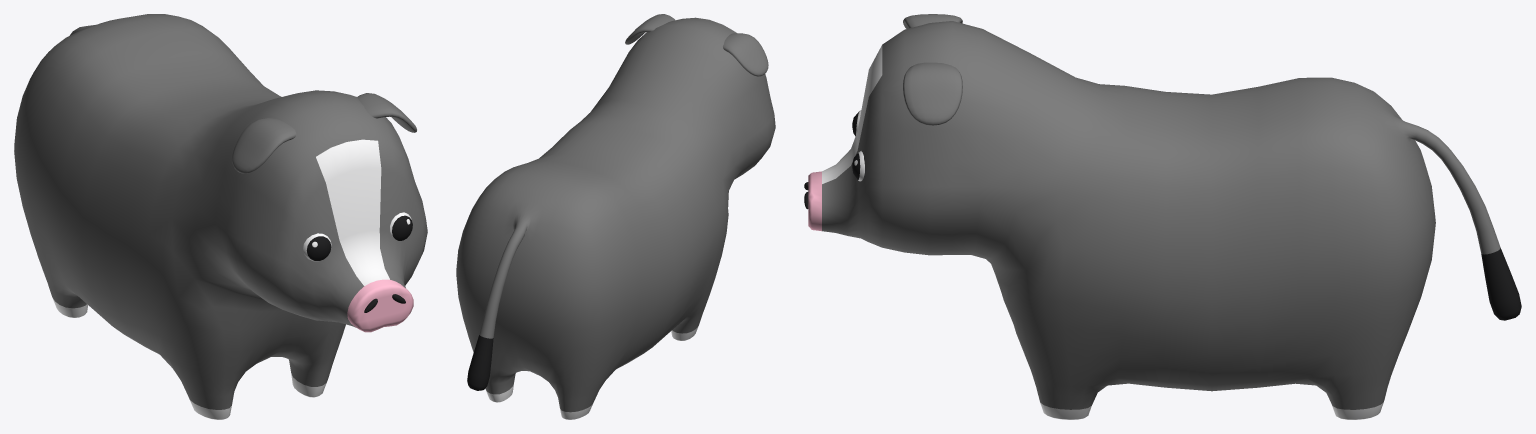
Rendered from Farm_6_Pig_1.glb.
3 renders of one model, left to right at view 1: azimuth 30°, elevation 25°; view 2: azimuth 150°, elevation 25°; view 3: azimuth 270°, elevation 25°, orthographic. The views are drawn at different scales.
Parts seen in each view (by area): view 1: Farm_6_Pig_1; view 2: Farm_6_Pig_1; view 3: Farm_6_Pig_1.
Boxes of the visible parts, x1=… form: Farm_6_Pig_1: x1=14, y1=14, x2=427, y2=419; Farm_6_Pig_1: x1=456, y1=14, x2=775, y2=419; Farm_6_Pig_1: x1=804, y1=14, x2=1521, y2=419.
Size of the model in its own units: 0.6424 by 0.9811 by 1.78.
Materials: 1 (1 with a texture image).
